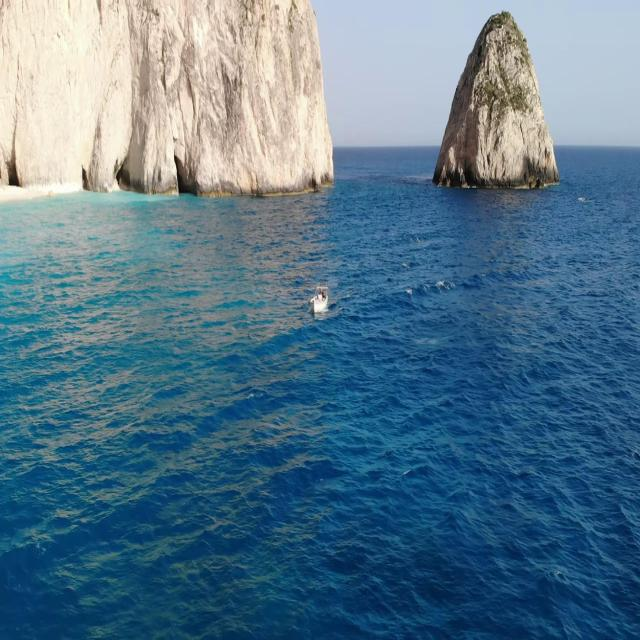boat: (310, 278, 329, 312)
